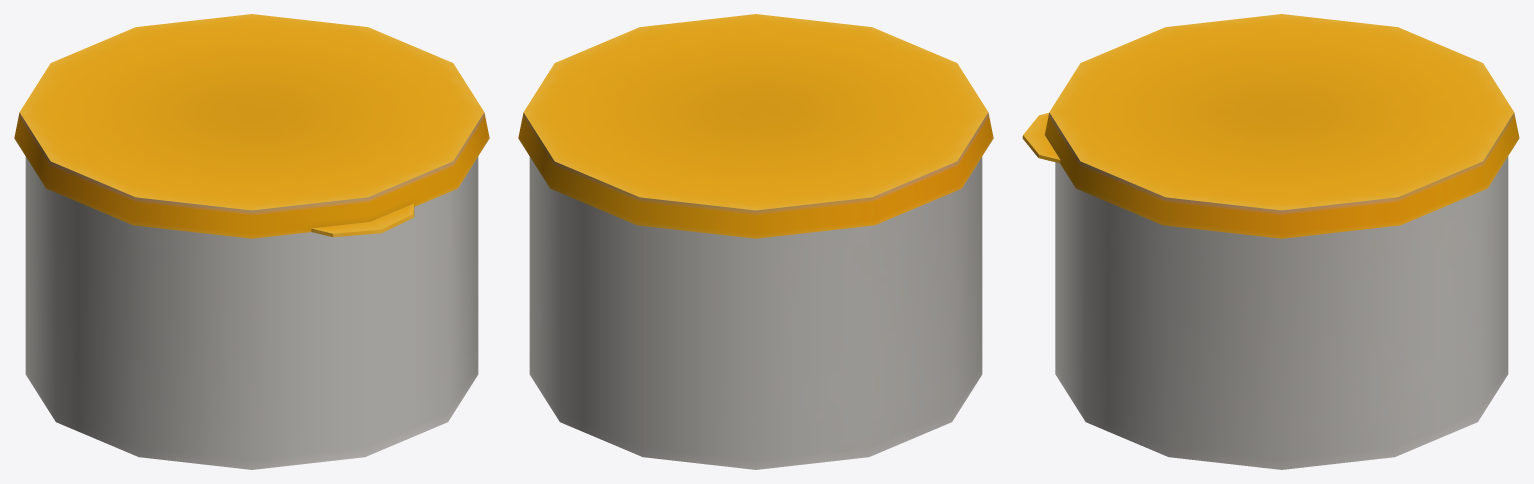
File: jsf_Ingredient_Powder.fbx
The picture shows the model from 3 angles, left to right: view 1: azimuth 30°, elevation 25°; view 2: azimuth 150°, elevation 25°; view 3: azimuth 270°, elevation 25°; orthographic projection.
Visible parts, largest first — view 1: Body, Lid; view 2: Body, Lid; view 3: Body, Lid.
Part boxes in pixels (<box>): Body: <box>25,157,478,469</box>; Lid: <box>14,14,489,238</box>; Body: <box>529,157,982,469</box>; Lid: <box>518,14,993,238</box>; Body: <box>1055,156,1508,469</box>; Lid: <box>1022,14,1519,238</box>.
Size of the model in its own units: 13.65 by 8.3 by 14.27.
